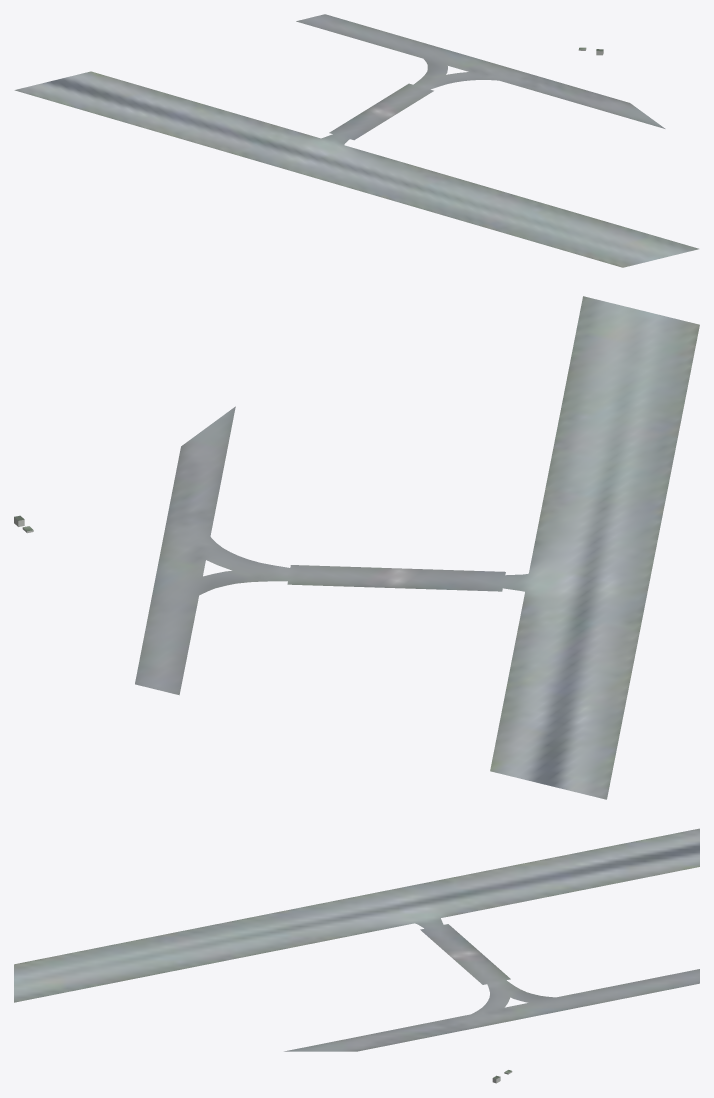
Rendered from LFSB_-1_2.glb.
The picture shows the model from 3 angles, top to bottom: view 1: azimuth 30°, elevation 25°; view 2: azimuth 150°, elevation 25°; view 3: azimuth 270°, elevation 25°; orthographic projection. The views are drawn at different scales.
Parts seen in each view (by area): view 1: pavement_LFSB_pavement_5211_2546; view 2: pavement_LFSB_pavement_5211_2546; view 3: pavement_LFSB_pavement_5211_2546.
Part boxes in pixels (box(x1,y1,x2,y2)): pavement_LFSB_pavement_5211_2546: box(14, 14, 698, 267); pavement_LFSB_pavement_5211_2546: box(135, 296, 699, 799); pavement_LFSB_pavement_5211_2546: box(14, 828, 699, 1051).
Bounding box in the file's own units: 422 × 9.03 × 500.
3 materials, 2 textured.
